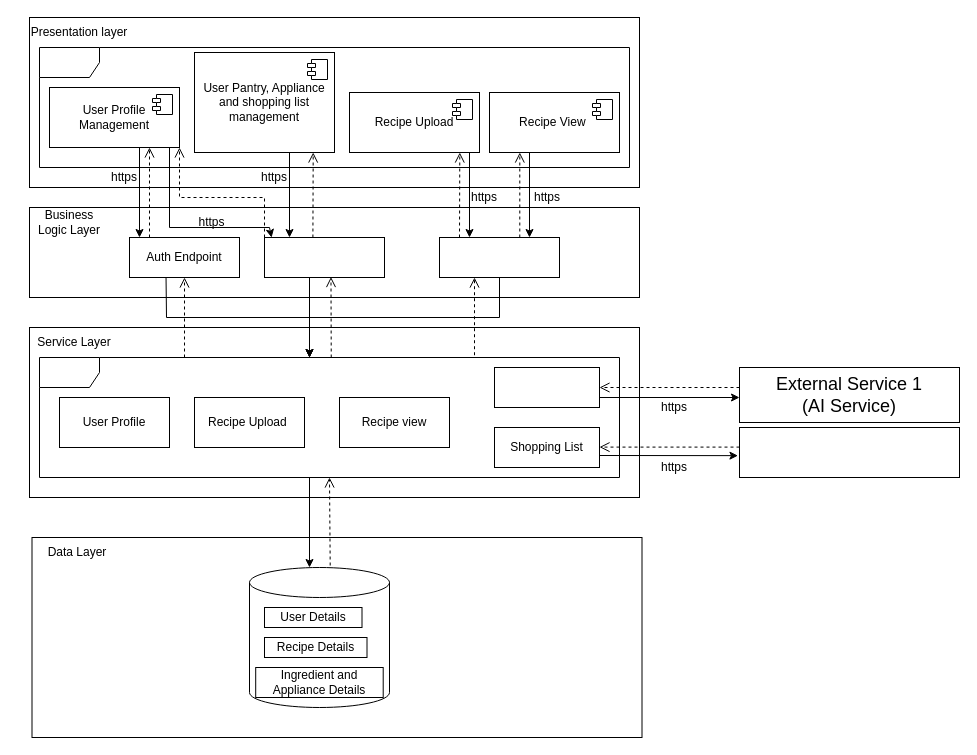
The diagram is 977 pixels wide and 755 high, and some of its shapes have lost their labels. Here are the shapes that lost their labels. From the top down, the box of each, then its label:
(38, 46, 630, 168): Components
(264, 236, 384, 278): User Endpoint
(438, 236, 560, 278): Recipe Endpoint
(494, 366, 600, 408): Ingredient Substitution
(38, 356, 620, 478): Services
(738, 426, 960, 478): External Service 2 (Supermarket API Service)
